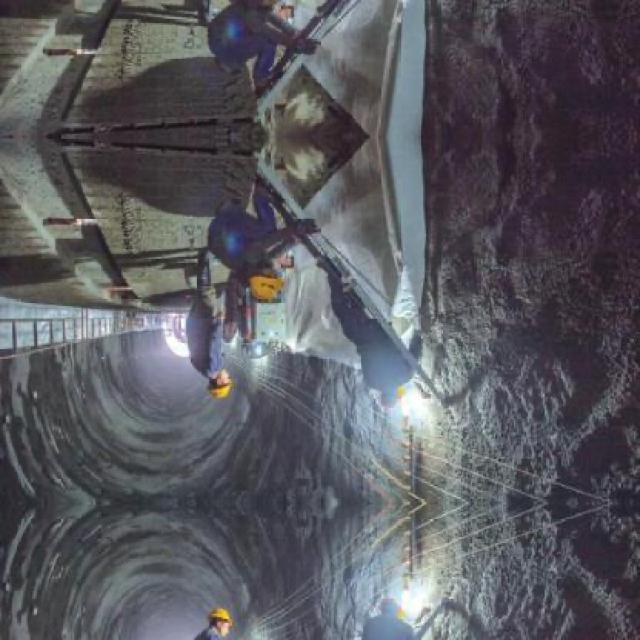con casco: (224, 228, 292, 318), (197, 354, 249, 410)
